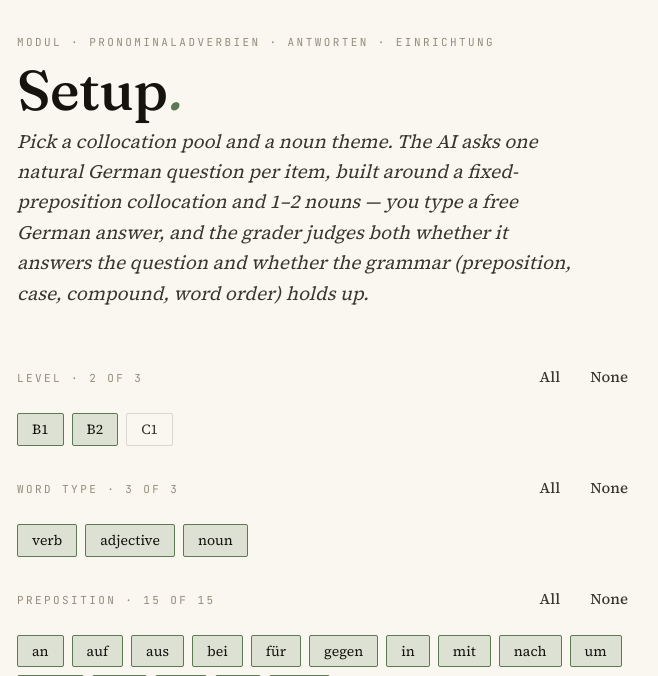
Test: AnswerSetup › disables Start when a filter chip-row is cleared to None
Click the button "None" in the row of "Word type · 3 of 3" at [609, 488], box [577,470,641,506]
(page scrolled)
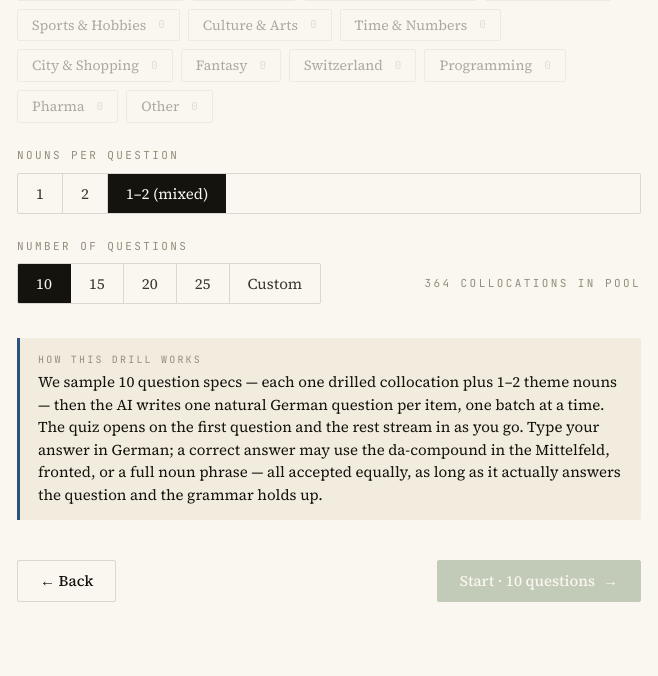
Expected: the button "Start · 10 questions →" is disabled, [437,560,641,602]
